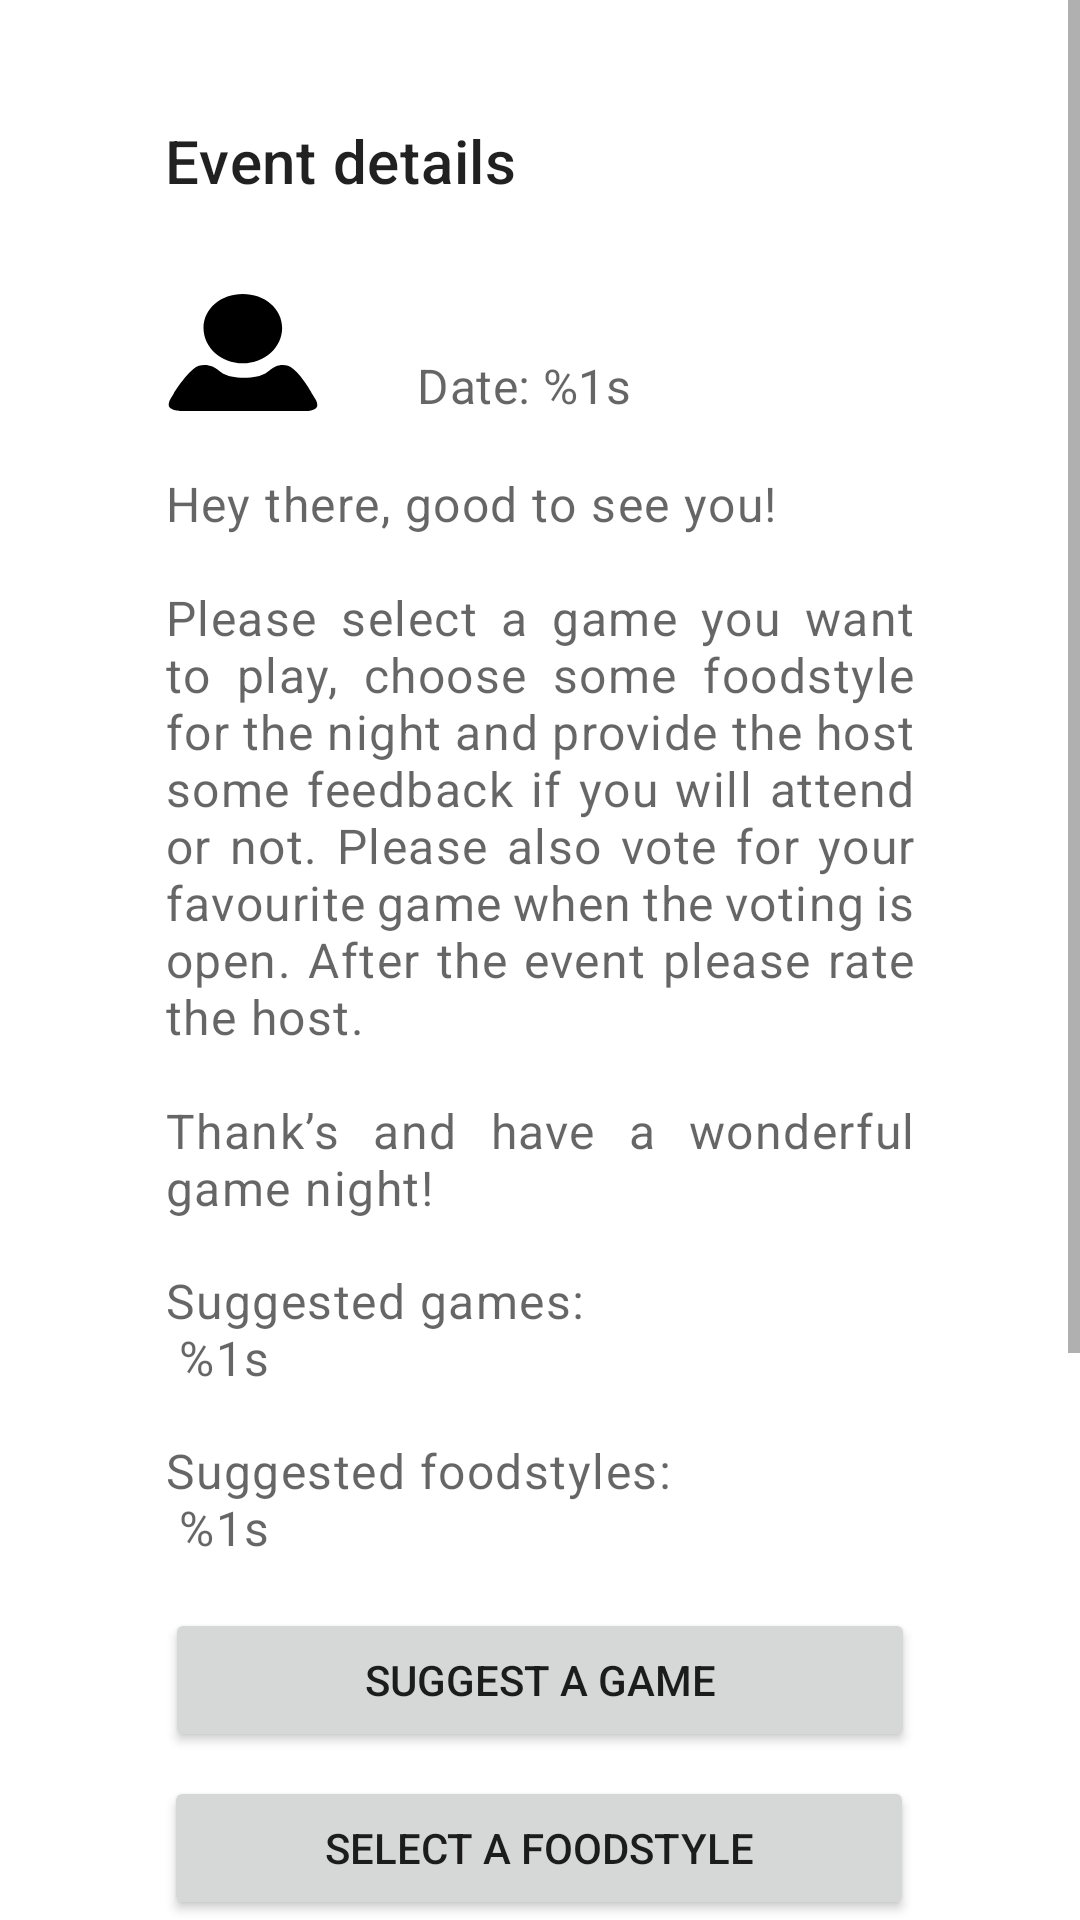

Screen size 1080w x 1920h. Icon name, then its center in pixels as [x,y]:
Go to profile Button: [243,352]
